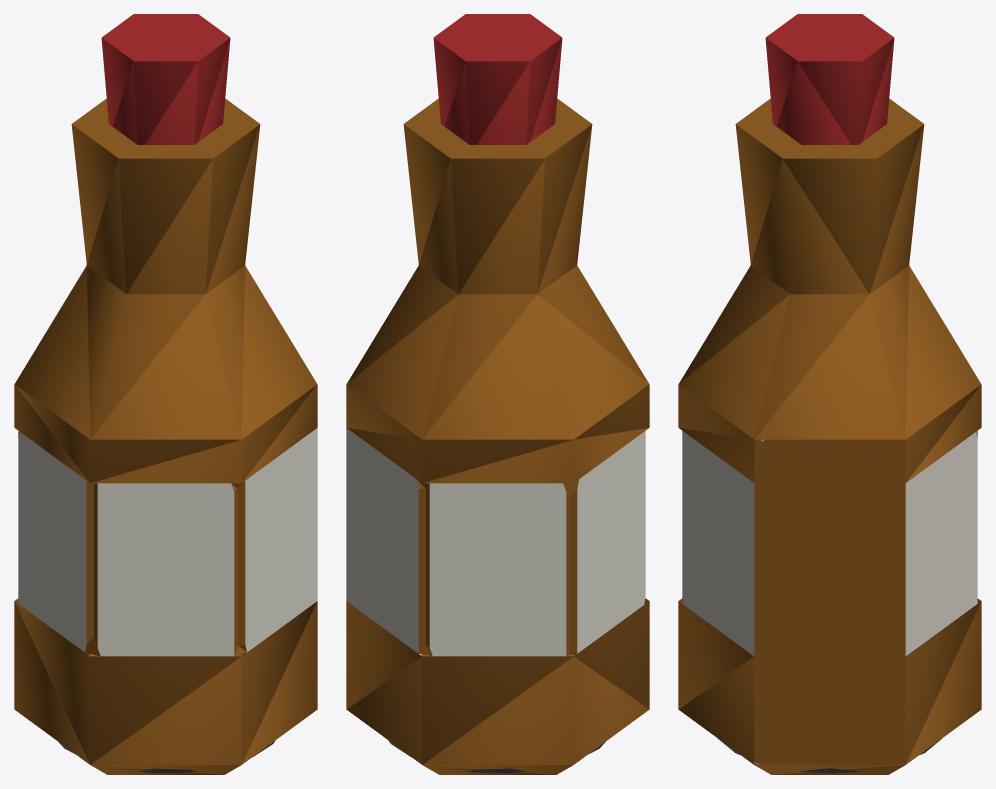
File: bottle.glb
The picture shows the model from 3 angles, left to right: view 1: azimuth 30°, elevation 25°; view 2: azimuth 150°, elevation 25°; view 3: azimuth 270°, elevation 25°; orthographic projection.
Parts seen in each view (by area): view 1: bottle; view 2: bottle; view 3: bottle.
Boxes of the visible parts, box(x1,y1,x2,y2) form: bottle: box(14, 14, 317, 774); bottle: box(346, 14, 649, 774); bottle: box(678, 14, 981, 774).
Bounding box in the file's own units: 0.0527 × 0.1539 × 0.0608.
